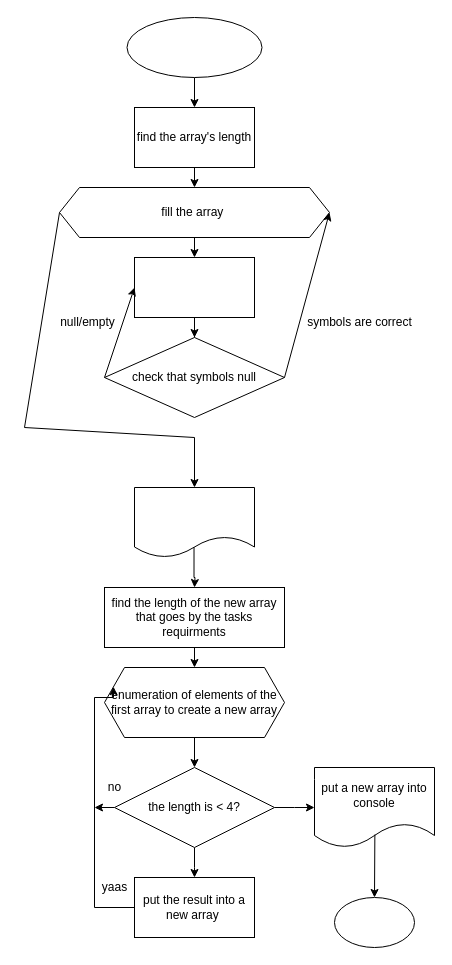
This 452x965 diagram has some shape labels left out. The shapes that lost their labels are listed below. From the top down, each one's centre as x and y in pixels, then its label:
At point 194,47: "start".
At point 194,287: "enter symbols into console".
At point 194,522: "output the array to the console".
At point 374,922: "end".
